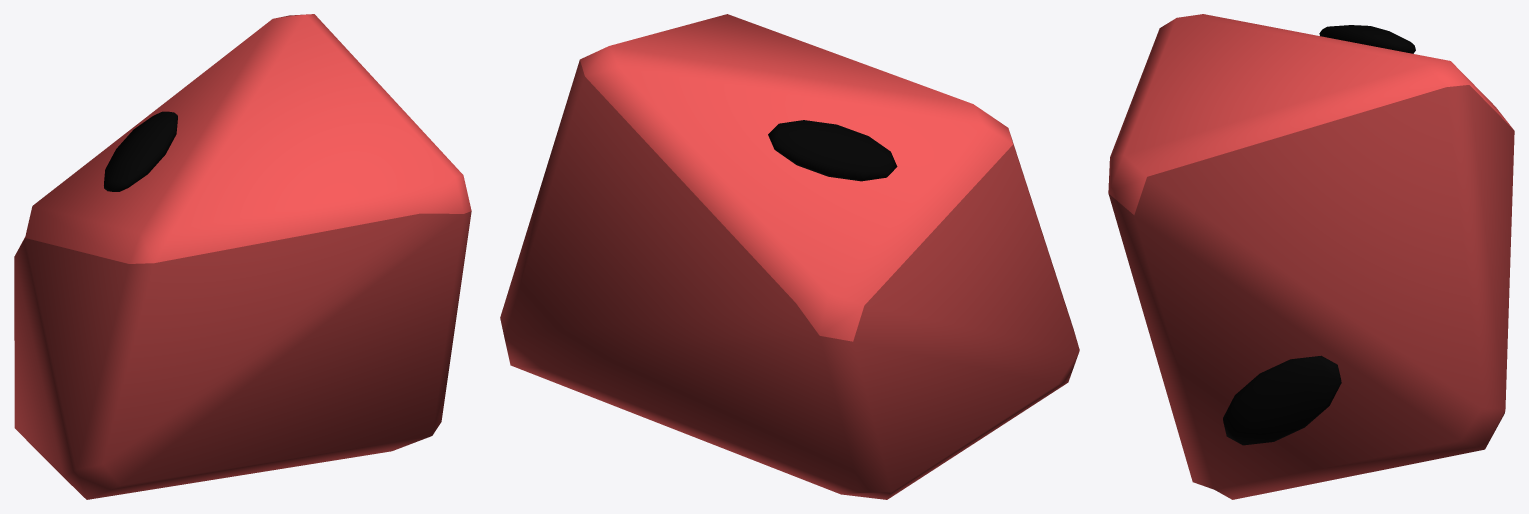
The model's file is Fx_Mesh_watermelon_PartsA.FBX.
3 renders of one model, left to right at view 1: azimuth 30°, elevation 25°; view 2: azimuth 150°, elevation 25°; view 3: azimuth 270°, elevation 25°, orthographic. The views are drawn at different scales.
Parts seen in each view (by area): view 1: Fx_Mesh_watermelon_PartsA; view 2: Fx_Mesh_watermelon_PartsA; view 3: Fx_Mesh_watermelon_PartsA.
Part boxes in pixels (x1,y1,x2,y2): Fx_Mesh_watermelon_PartsA: (14, 14, 471, 499); Fx_Mesh_watermelon_PartsA: (500, 14, 1079, 499); Fx_Mesh_watermelon_PartsA: (1108, 14, 1514, 499).
Bounding box in the file's own units: 16.98 × 14.17 × 12.42.
